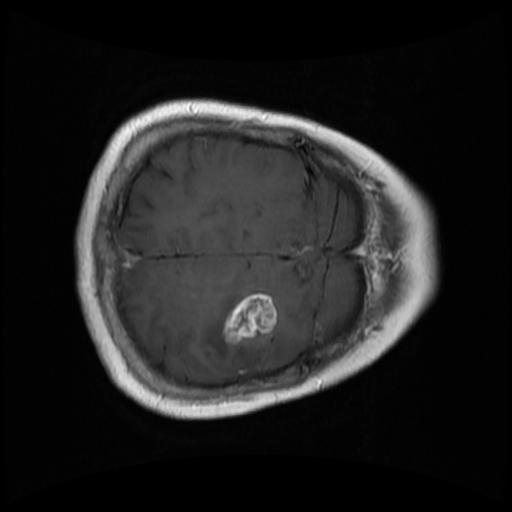glioma: (201, 291, 278, 371)
